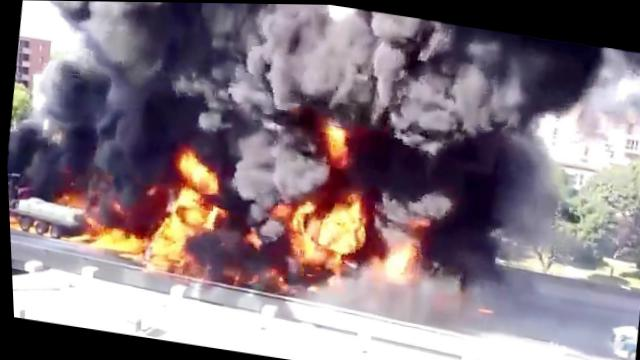fire: (316, 195, 367, 254), (282, 200, 323, 261), (148, 214, 190, 263), (164, 200, 223, 233), (173, 154, 223, 192), (88, 224, 147, 255), (378, 236, 414, 283), (320, 117, 350, 161), (174, 187, 204, 207), (315, 248, 341, 266)
